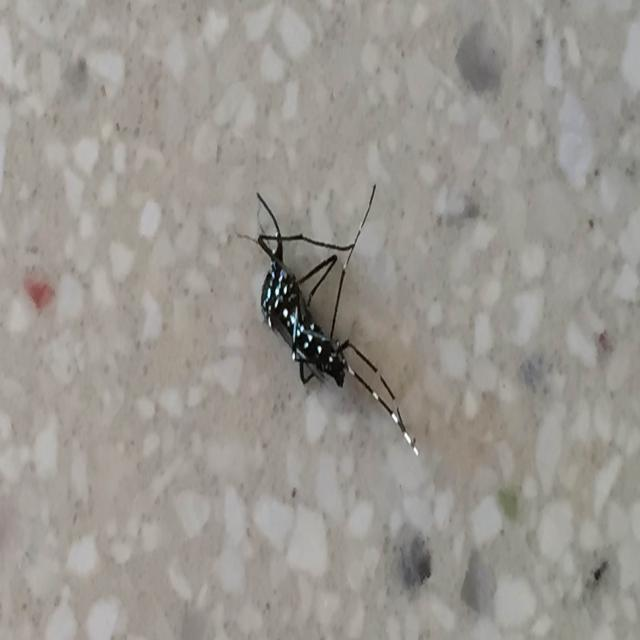albopictus: (224, 172, 420, 458)
